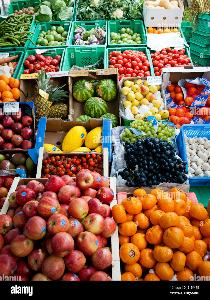apple: (0, 173, 118, 281), (1, 108, 34, 150)
carrot: (0, 53, 22, 78)
grape: (115, 124, 185, 186)
mango: (1, 150, 46, 178)
orange: (119, 184, 210, 279), (0, 76, 18, 100)
pineapple: (18, 76, 70, 118)
tomato: (37, 152, 106, 180), (108, 48, 156, 77), (149, 48, 195, 76), (106, 21, 148, 46), (23, 50, 63, 74), (32, 25, 70, 49)
watermelon: (73, 74, 113, 125)
